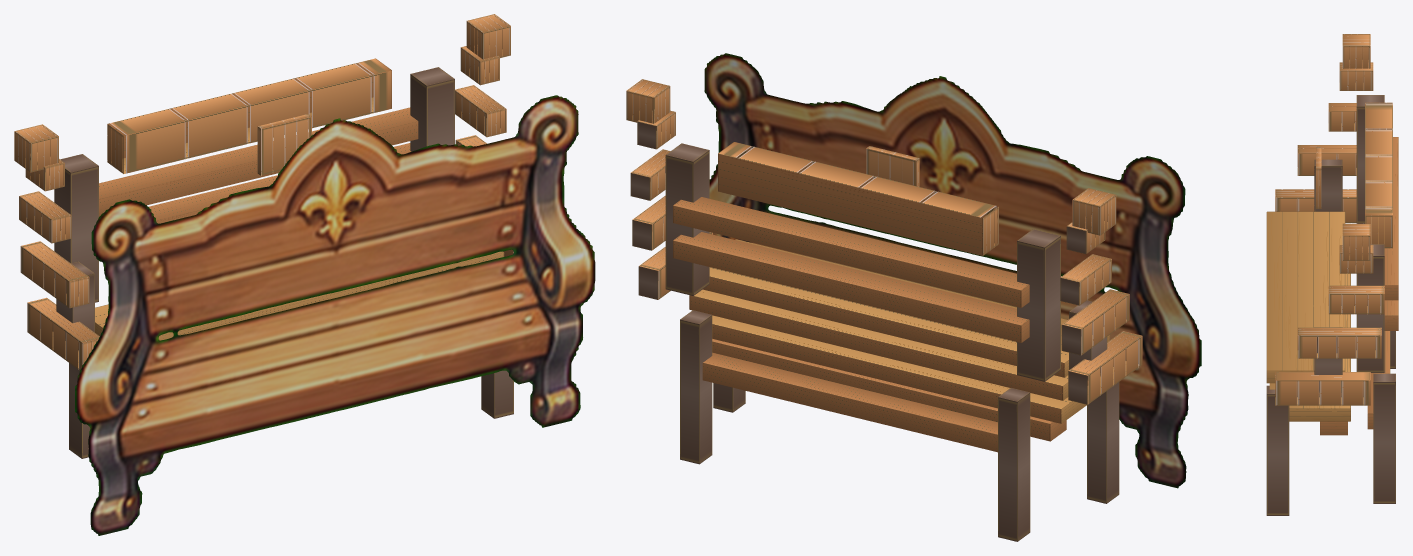
File: Willowbrook_Bench_SpriteBased.obj
3 renders of one model, left to right at view 1: azimuth 30°, elevation 25°; view 2: azimuth 150°, elevation 25°; view 3: azimuth 270°, elevation 25°, orthographic. The views are drawn at different scales.
Visible parts, largest first — view 1: Willowbrook_Bench_SpriteBased; view 2: Willowbrook_Bench_SpriteBased; view 3: Willowbrook_Bench_SpriteBased.
Part boxes in pixels (x1=…): Willowbrook_Bench_SpriteBased: x1=14, y1=14, x2=595, y2=535; Willowbrook_Bench_SpriteBased: x1=626, y1=53, x2=1201, y2=541; Willowbrook_Bench_SpriteBased: x1=1266, y1=34, x2=1398, y2=515.
Bounding box in the file's own units: 1.85 × 1.21 × 0.6.
Materials: 1 (1 with a texture image).
